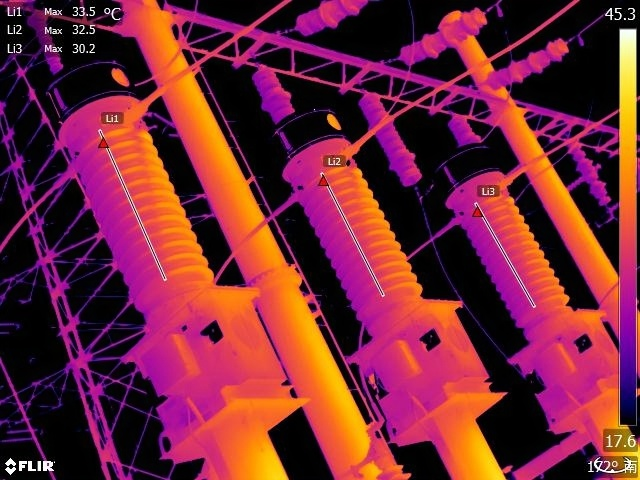current transformer: (37, 36, 286, 395), (268, 96, 486, 392), (434, 136, 620, 390)
insulator: (356, 82, 422, 192), (394, 6, 489, 68), (482, 33, 575, 93), (291, 1, 368, 41), (570, 137, 612, 208), (247, 63, 293, 121), (443, 110, 482, 146)
